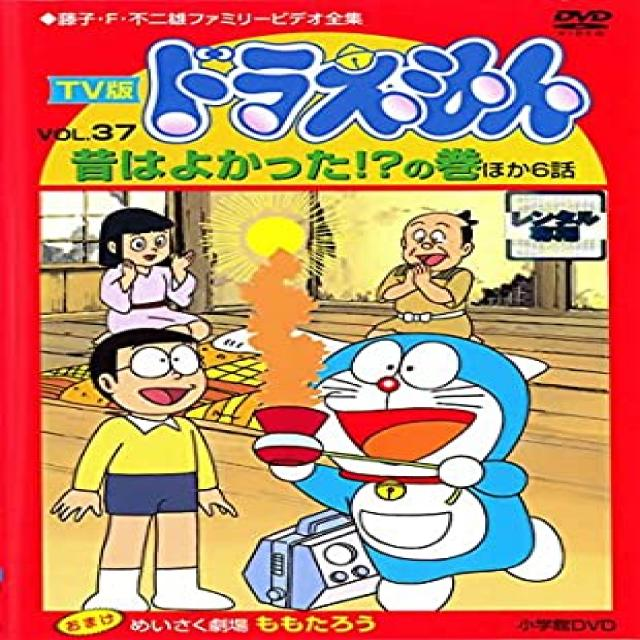doraemon: (300, 332, 524, 496)
nobita: (84, 326, 208, 438)
